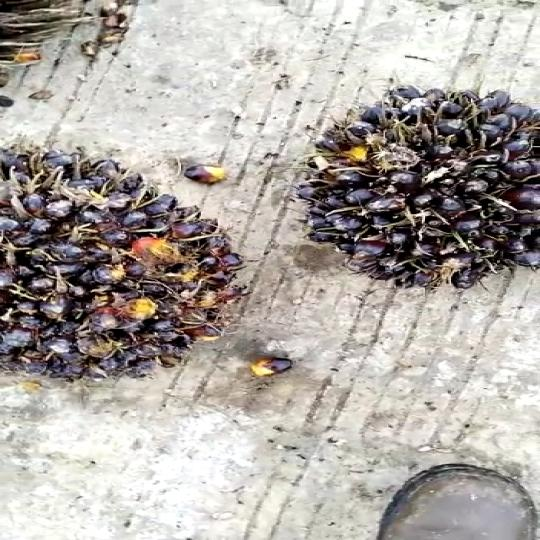mentah: (0, 146, 252, 380), (288, 78, 540, 293)
